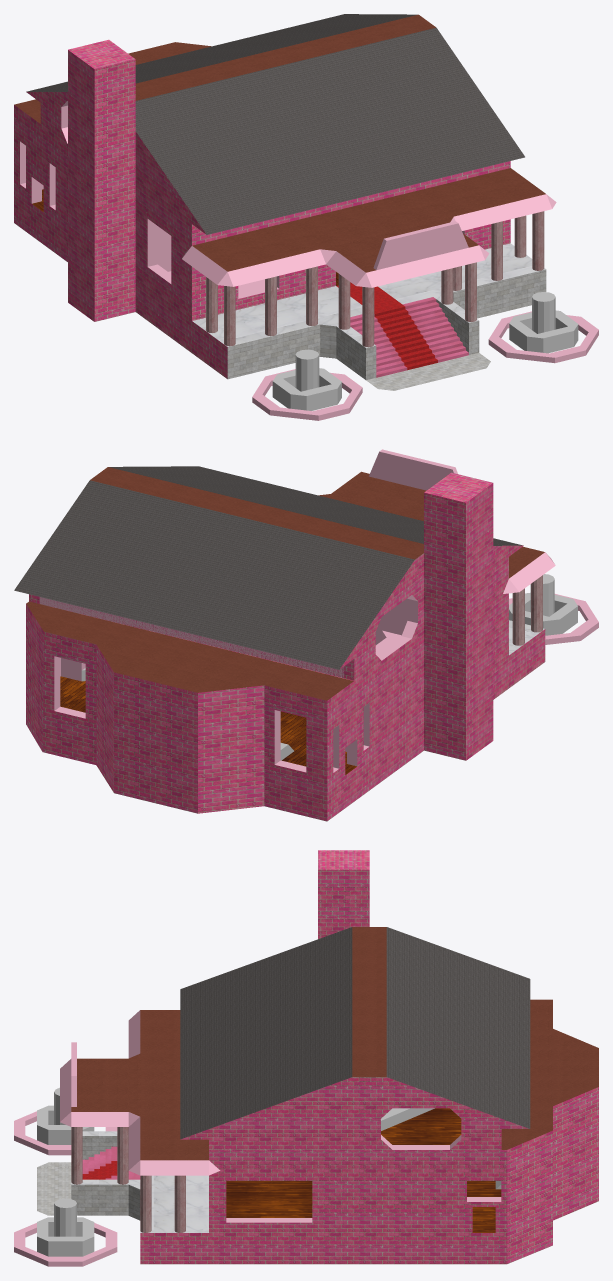
File: house2.obj
3 renders of one model, top to bottom at view 1: azimuth 30°, elevation 25°; view 2: azimuth 150°, elevation 25°; view 3: azimuth 270°, elevation 25°, orthographic. The views are drawn at different scales.
Visible parts, largest first — view 1: roof.001_mesh1513493504.001, walls_walls_mesh1513493504.011, ROOFfLAT_walls_mesh1513493504.000, roofFront_mesh1513493504.013, porch.001_mesh1513493504.002, pillars_mesh1513493504.015, porch_mesh1513493504.018, fountains_mesh1513493504.017, fountains.002_mesh1513493504.033, stairs_mesh1513493504.016, stairs.001_mesh1513493504.026, porch.002_mesh1513493504.004 (+4 smaller); view 2: walls_walls_mesh1513493504.011, roof.001_mesh1513493504.001, ROOFfLAT_walls_mesh1513493504.000, stageRoom_mesh1513493504.023, roofFront_mesh1513493504.013, frames_mesh1513493504.020, floor_mesh1513493504.039, pillars_mesh1513493504.015, fountains_mesh1513493504.017, fountains.002_mesh1513493504.033, fountains.001_mesh1513493504.027; view 3: walls_walls_mesh1513493504.011, roof.001_mesh1513493504.001, ROOFfLAT_walls_mesh1513493504.000, floor_mesh1513493504.039, roofFront_mesh1513493504.013, porch_mesh1513493504.018, fountains_mesh1513493504.017, porch.001_mesh1513493504.002, pillars_mesh1513493504.015, fountains.002_mesh1513493504.033, porch.002_mesh1513493504.004, fountains.001_mesh1513493504.027 (+3 smaller).
Part boxes in pixels (<box>): roof.001_mesh1513493504.001: <box>27,14,524,234</box>; walls_walls_mesh1513493504.011: <box>14,39,510,378</box>; ROOFfLAT_walls_mesh1513493504.000: <box>14,14,545,272</box>; roofFront_mesh1513493504.013: <box>182,194,556,287</box>; porch.001_mesh1513493504.002: <box>227,269,546,380</box>; pillars_mesh1513493504.015: <box>206,211,544,347</box>; porch_mesh1513493504.018: <box>192,243,545,347</box>; fountains_mesh1513493504.017: <box>272,310,578,410</box>; fountains.002_mesh1513493504.033: <box>252,311,598,420</box>; stairs_mesh1513493504.016: <box>350,297,468,377</box>; stairs.001_mesh1513493504.026: <box>374,304,437,370</box>; porch.002_mesh1513493504.004: <box>366,353,490,390</box>; walls_walls_mesh1513493504.011: <box>26,472,545,821</box>; roof.001_mesh1513493504.001: <box>14,466,522,669</box>; ROOFfLAT_walls_mesh1513493504.000: <box>26,467,544,700</box>; stageRoom_mesh1513493504.023: <box>39,597,407,751</box>; roofFront_mesh1513493504.013: <box>369,449,555,593</box>; frames_mesh1513493504.020: <box>54,595,417,772</box>; floor_mesh1513493504.039: <box>60,676,356,774</box>; pillars_mesh1513493504.015: <box>512,575,542,645</box>; fountains_mesh1513493504.017: <box>509,592,577,635</box>; fountains.002_mesh1513493504.033: <box>509,594,598,644</box>; fountains.001_mesh1513493504.027: <box>530,574,554,616</box>; walls_walls_mesh1513493504.011: <box>140,850,598,1264</box>; roof.001_mesh1513493504.001: <box>180,927,530,1139</box>; ROOFfLAT_walls_mesh1513493504.000: <box>71,927,598,1160</box>; floor_mesh1513493504.039: <box>226,1108,501,1232</box>; roofFront_mesh1513493504.013: <box>60,1010,220,1175</box>; porch_mesh1513493504.018: <box>71,1131,208,1232</box>; fountains_mesh1513493504.017: <box>37,1105,94,1256</box>; porch.001_mesh1513493504.002: <box>71,1136,140,1220</box>; pillars_mesh1513493504.015: <box>71,1127,185,1232</box>; fountains.002_mesh1513493504.033: <box>14,1111,117,1266</box>; porch.002_mesh1513493504.004: <box>37,1162,71,1215</box>; fountains.001_mesh1513493504.027: <box>54,1087,76,1236</box>.
Size of the model in its own units: 0.72 by 0.47 by 1.02.
